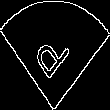P_SW: (33, 23, 77, 87)
